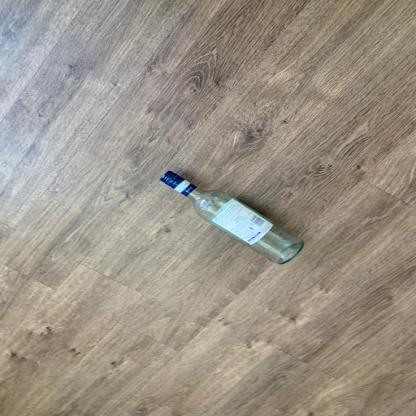trash: (154, 166, 309, 268)
